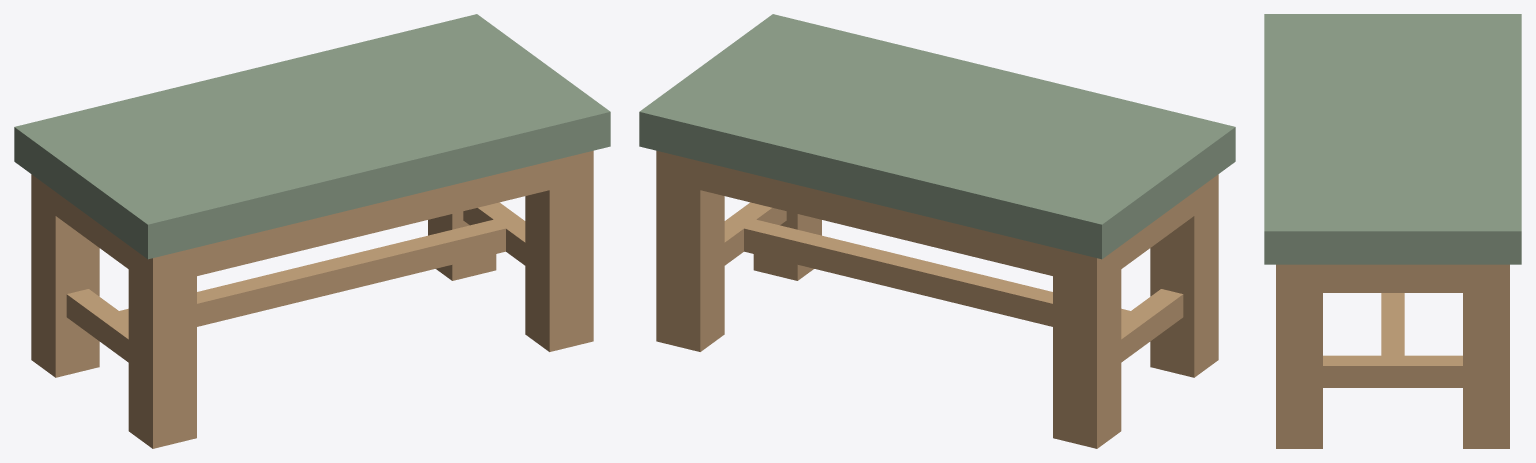
File: bench-low.glb
3 views of the same model, side by side, from view 1: azimuth 30°, elevation 25°; view 2: azimuth 150°, elevation 25°; view 3: azimuth 270°, elevation 25° (orthographic). The views are drawn at different scales.
Parts seen in each view (by area): view 1: bench-low; view 2: bench-low; view 3: bench-low.
Boxes of the visible parts, left/top/right/bottom form: bench-low: left=14, top=14, right=610, bottom=448; bench-low: left=639, top=14, right=1235, bottom=448; bench-low: left=1264, top=14, right=1521, bottom=448.
Size of the model in its own units: 0.9 by 0.43 by 0.45.
